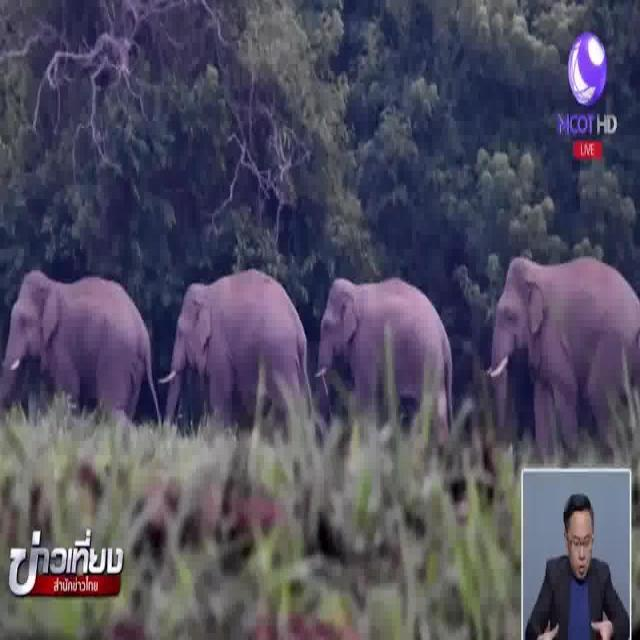Elephant: (486, 256, 640, 428), (2, 265, 153, 414), (164, 267, 305, 422), (317, 267, 456, 417)
